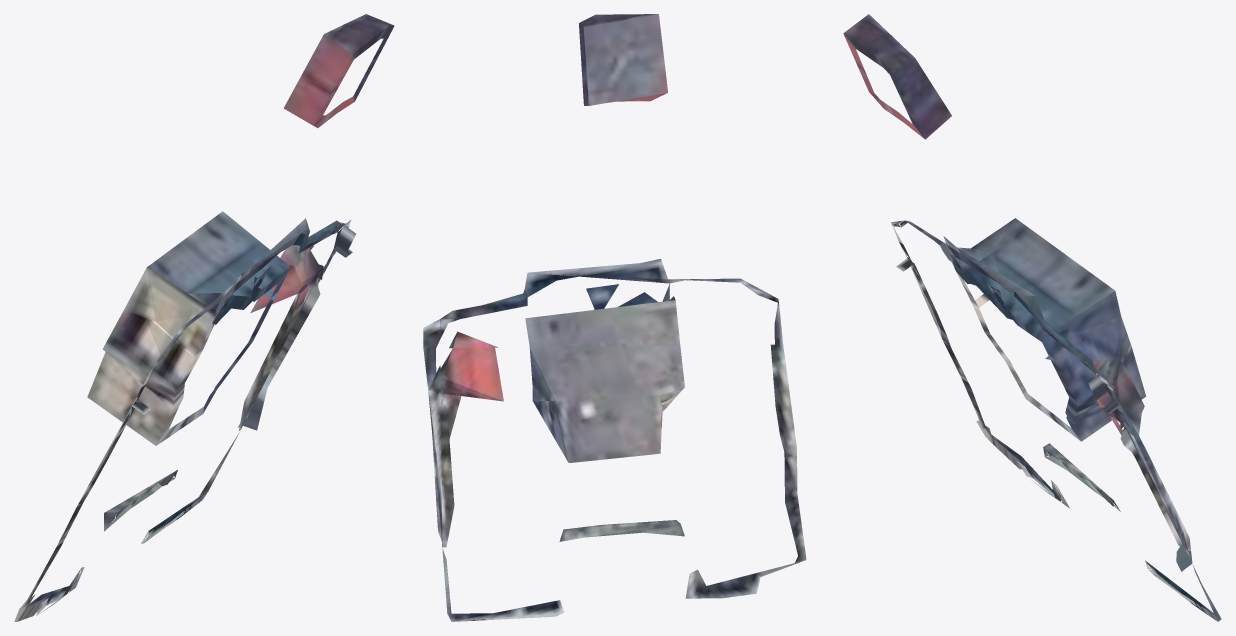
3 renders of one model, left to right at view 1: azimuth 30°, elevation 25°; view 2: azimuth 150°, elevation 25°; view 3: azimuth 270°, elevation 25°, orthographic. The views are drawn at different scales.
Bounding box in the file's own units: 28.45 × 41.51 × 24.63.
1 material, 1 textured.
